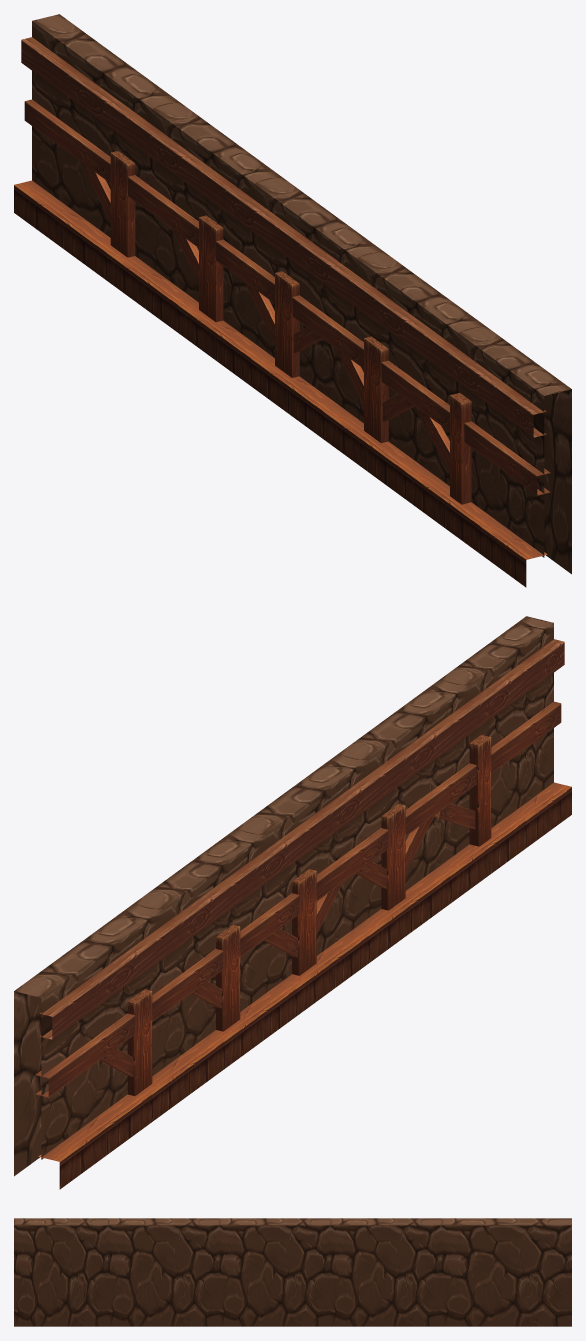
File: Qiang03.FBX
3 views of the same model, one above another, from view 1: azimuth 30°, elevation 25°; view 2: azimuth 150°, elevation 25°; view 3: azimuth 270°, elevation 25° (orthographic). The views are drawn at different scales.
Parts seen in each view (by area): view 1: 对象117; view 2: 对象117; view 3: 对象117.
Boxes of the visible parts, x1=… form: 对象117: x1=14, y1=14, x2=571, y2=587; 对象117: x1=14, y1=616, x2=571, y2=1189; 对象117: x1=14, y1=1218, x2=571, y2=1326.
Size of the model in its own units: 88.54 by 348 by 1723.
